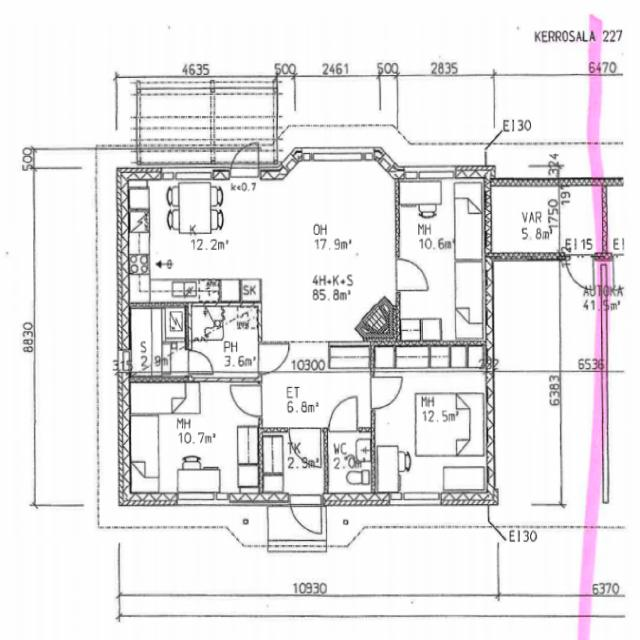door: (290, 492, 322, 540), (290, 427, 320, 467), (231, 137, 258, 179), (370, 376, 404, 408), (566, 253, 594, 291), (329, 396, 357, 432), (395, 259, 427, 290), (230, 385, 262, 416), (258, 344, 289, 374), (187, 351, 213, 374)
